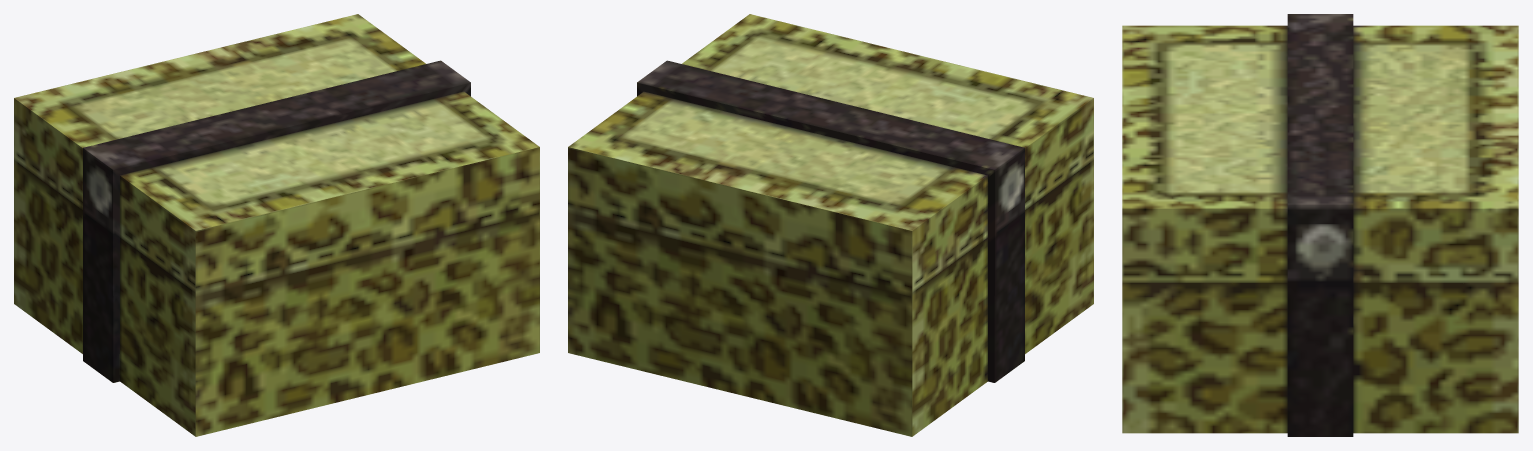
The model's file is furni_0200100_01.FBX.
3 renders of one model, left to right at view 1: azimuth 30°, elevation 25°; view 2: azimuth 150°, elevation 25°; view 3: azimuth 270°, elevation 25°, orthographic. The views are drawn at different scales.
Visible parts, largest first — view 1: furni_0200100_01; view 2: furni_0200100_01; view 3: furni_0200100_01.
Part boxes in pixels (<box>): furni_0200100_01: <box>14,14,539,436</box>; furni_0200100_01: <box>568,14,1093,436</box>; furni_0200100_01: <box>1122,14,1518,436</box>.
Size of the model in its own units: 83.54 by 47.54 by 73.47.
1 material, 1 textured.
